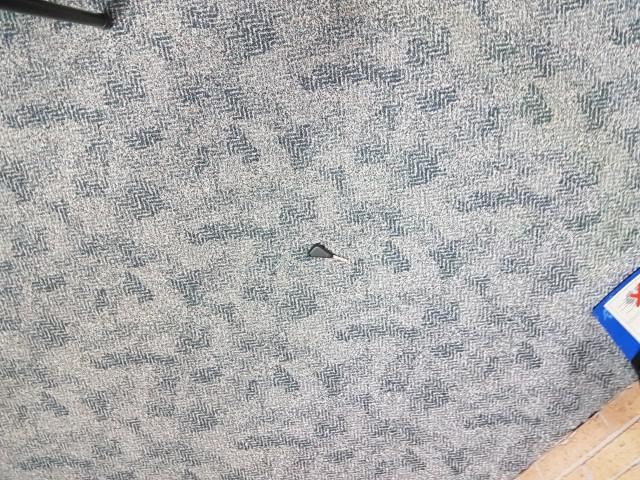key: (306, 241, 349, 265)
